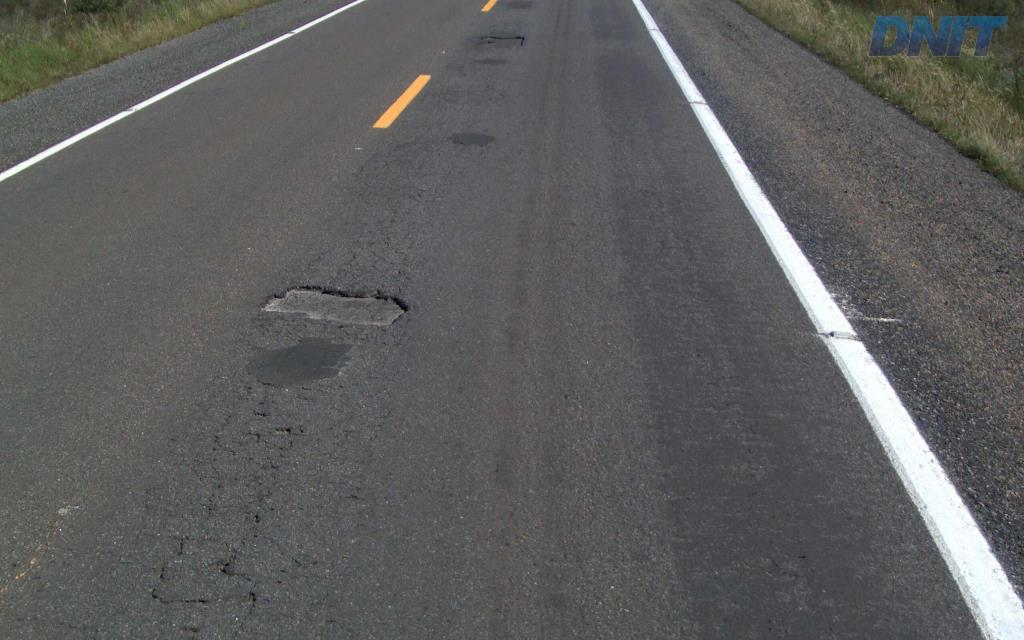pothole: (254, 273, 408, 334)
